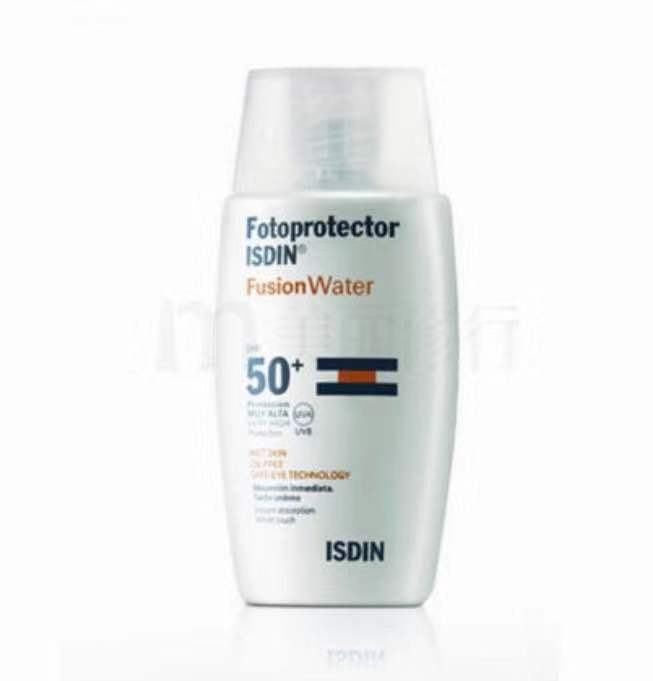cosmetic: (225, 65, 446, 610)
